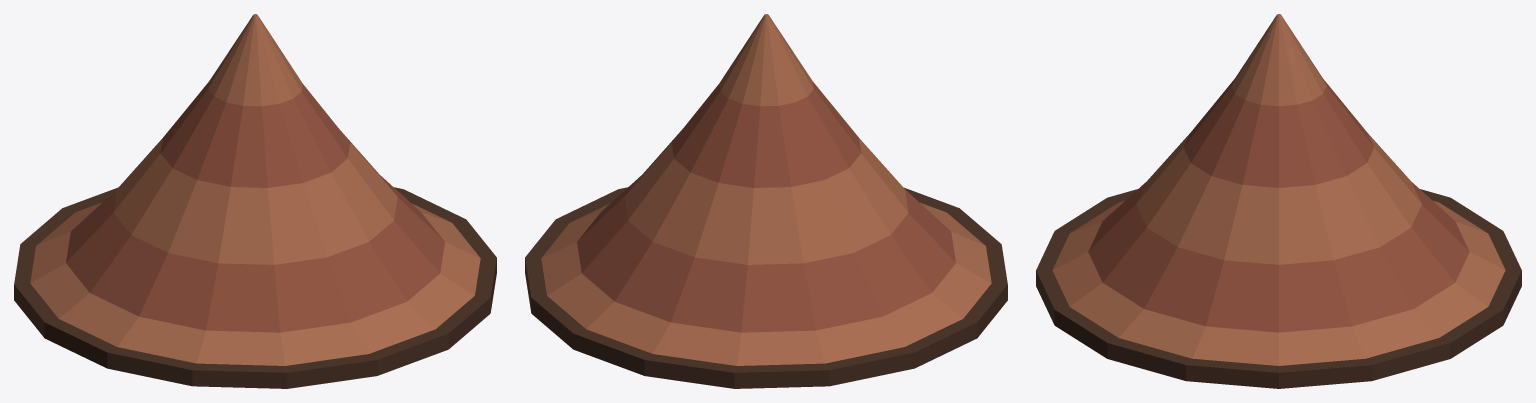
The model's file is TowerCone__Round.fbx.
The picture shows the model from 3 angles, left to right: view 1: azimuth 30°, elevation 25°; view 2: azimuth 150°, elevation 25°; view 3: azimuth 270°, elevation 25°; orthographic projection.
Parts seen in each view (by area): view 1: TowerCone__Round; view 2: TowerCone__Round; view 3: TowerCone__Round.
Part boxes in pixels (bbox=[...]): TowerCone__Round: bbox=[14, 14, 496, 388]; TowerCone__Round: bbox=[525, 14, 1007, 388]; TowerCone__Round: bbox=[1036, 14, 1521, 388].
Bounding box in the file's own units: 438 × 276 × 438.
Materials: 1 (1 with a texture image).
